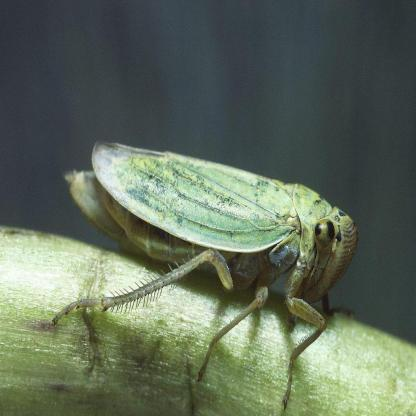Green-Leafhopper: (44, 136, 360, 409)
